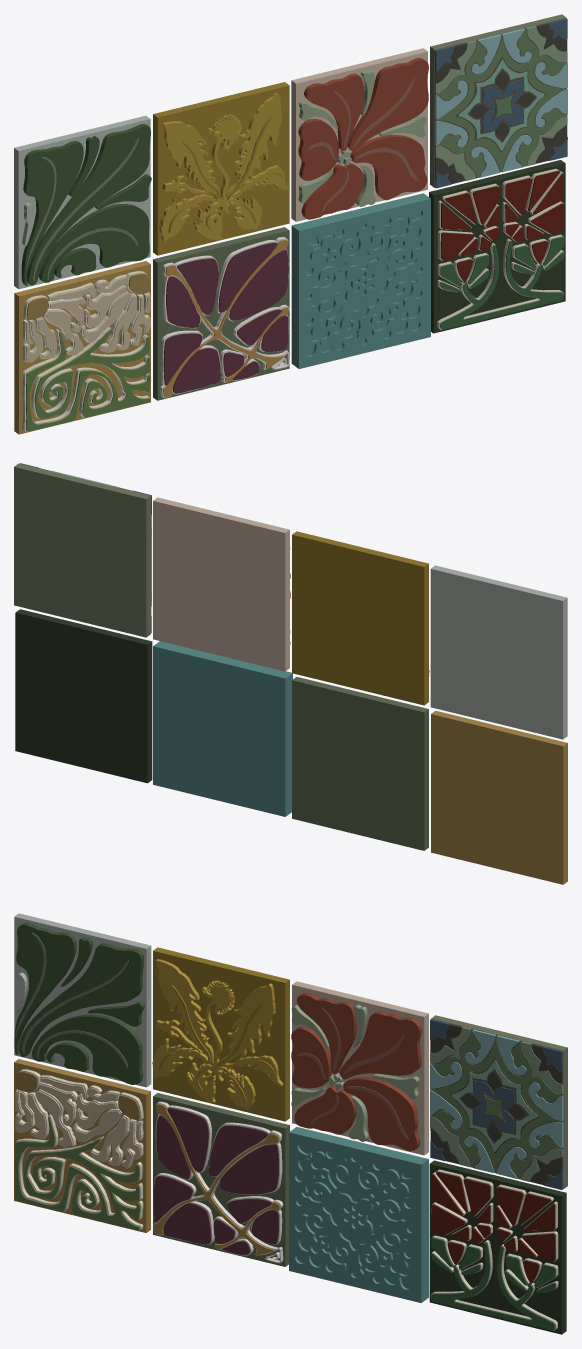
The model's file is art_nouveau_ceramic_tile.glb.
3 renders of one model, top to bottom at view 1: azimuth 30°, elevation 25°; view 2: azimuth 150°, elevation 25°; view 3: azimuth 330°, elevation 25°, orthographic.
Visible parts, largest first — view 1: background 8, background 6, dandelion, black background 4, background 5, white background 5, cube 7, white background 5.022, background 3, leaf 6, background 1, leaf 7 (+46 smaller); view 2: background 8, black background 4, background 1, background 2, background 6, background 3, background 5, background 7; view 3: background 8, background 6, dandelion, black background 4, background 5, white background 5, cube 7, background 1, white background 5.022, background 3, leaf 6, background 2 (+45 smaller).
Boxes of the visible parts, x1,y1,x2,y2 form: background 8: (291,193,430,368); background 6: (153,82,289,255); dandelion: (159,92,289,241); black background 4: (429,160,565,333); background 5: (14,261,150,434); white background 5: (22,271,149,431); cube 7: (437,30,566,177); white background 5.022: (26,329,150,431); background 3: (153,227,289,400); leaf 6: (27,124,150,285); background 1: (14,115,150,289); leaf 7: (39,204,149,282); background 8: (153,641,292,816); black background 4: (15,609,152,783); background 1: (430,565,567,739); background 2: (153,497,289,671); background 6: (292,531,428,705); background 3: (292,677,428,850); background 5: (431,710,567,884); background 7: (14,463,150,637); background 8: (289,1127,428,1302); background 6: (153,947,289,1121); dandelion: (152,959,283,1110); black background 4: (429,1160,566,1334); background 5: (14,1059,150,1232); white background 5: (15,1069,143,1230); cube 7: (431,1030,561,1178); background 1: (14,913,151,1087); white background 5.022: (15,1116,140,1230); background 3: (153,1093,289,1266); leaf 6: (19,943,143,1056); background 2: (292,981,428,1155).
Size of the model in its own units: 8.3 by 4.1 by 0.2277.
